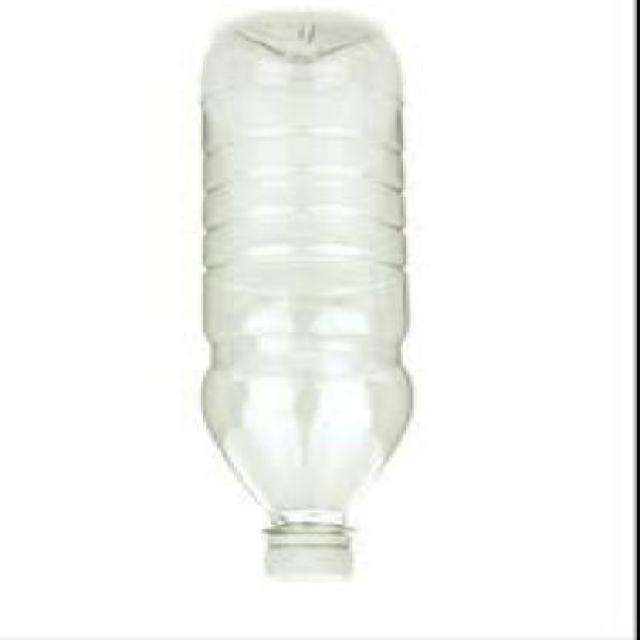PLASTIC: (207, 14, 419, 584), (271, 532, 358, 582)
